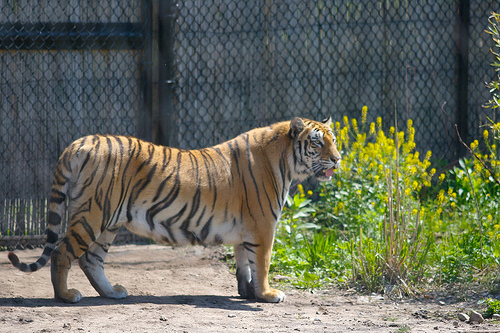Tigre: (37, 113, 348, 315)
